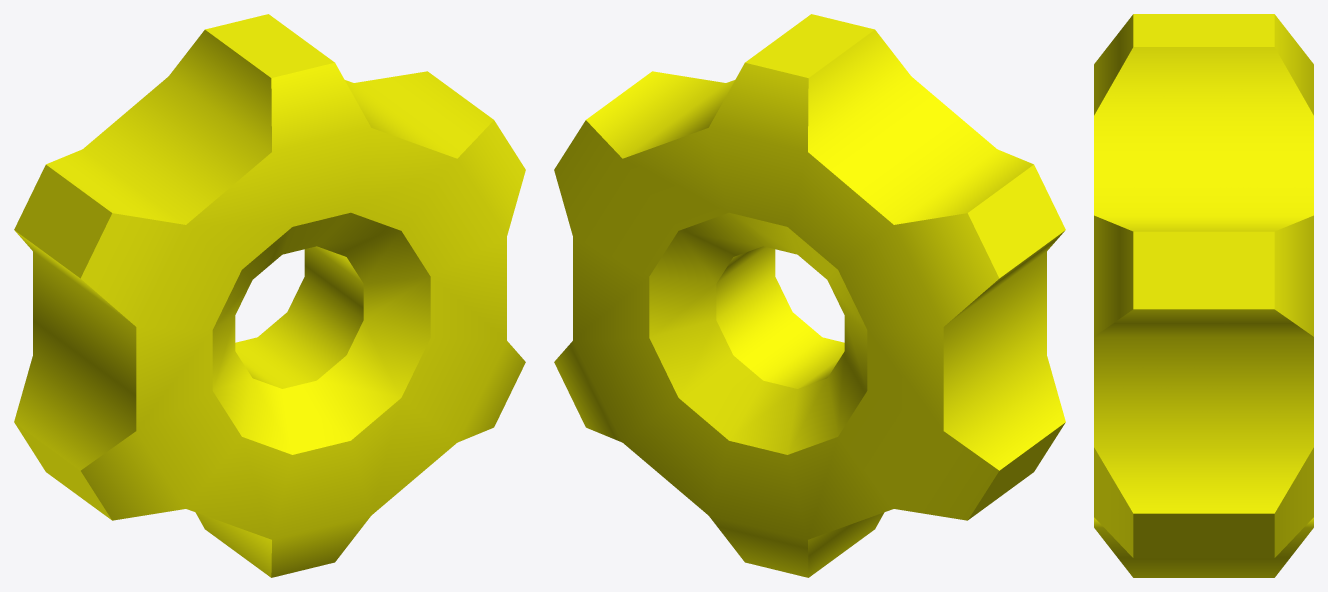
The model's file is kaykit-parts-cog.glb.
The picture shows the model from 3 angles, left to right: view 1: azimuth 30°, elevation 25°; view 2: azimuth 150°, elevation 25°; view 3: azimuth 270°, elevation 25°; orthographic projection. The views are drawn at different scales.
Visible parts, largest first — view 1: Parts_Cog; view 2: Parts_Cog; view 3: Parts_Cog.
Part boxes in pixels (x1=…): Parts_Cog: x1=14, y1=14, x2=525, y2=577; Parts_Cog: x1=554, y1=14, x2=1065, y2=577; Parts_Cog: x1=1094, y1=14, x2=1313, y2=577.
Size of the model in its own units: 0.373 by 0.4 by 0.15.
